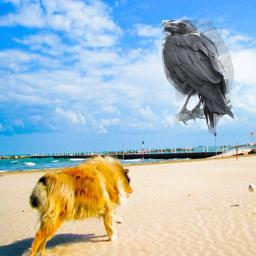Crow: (162, 20, 234, 134)
